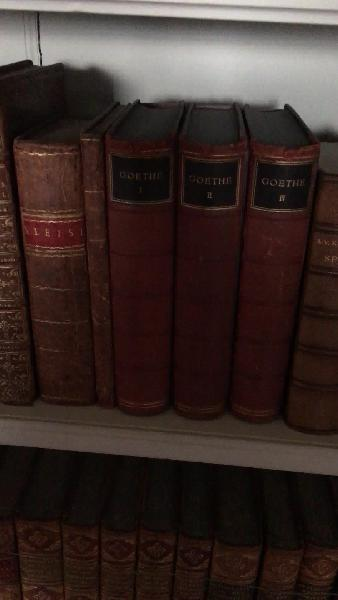Aa6-10: (72, 129, 119, 413)
Aa6-11_13: (102, 132, 309, 433)
Aa6-9: (9, 132, 90, 412)
